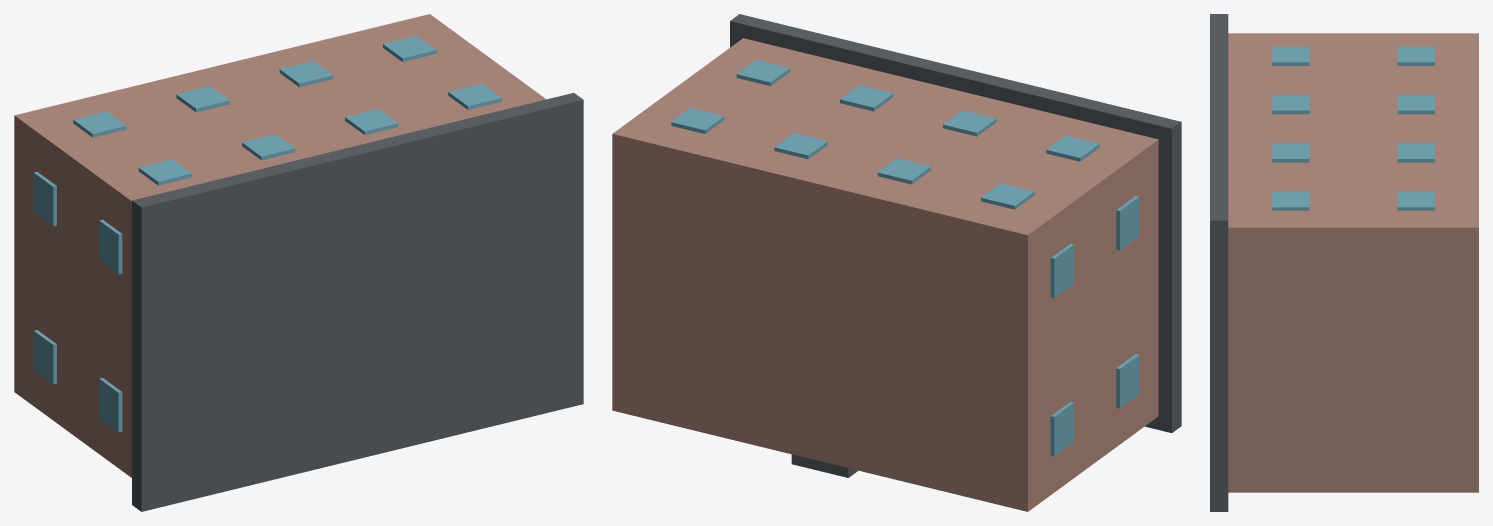
The model's file is bar.glb.
3 renders of one model, left to right at view 1: azimuth 30°, elevation 25°; view 2: azimuth 150°, elevation 25°; view 3: azimuth 270°, elevation 25°, orthographic. The views are drawn at different scales.
Parts seen in each view (by area): view 1: g1, g0, g20, g21, g10, g11, g7, g13, g3, g5, g15, g19 (+2 smaller); view 2: g0, g1, g11, g10, g20, g21, g5, g13, g19, g3, g7, g15 (+3 smaller); view 3: g0, g1, g7, g9, g13, g15, g17, g19, g3, g5.
Part boxes in pixels (box(x1,y1,x2,y2)): g1: box(132, 93, 583, 511); g0: box(14, 14, 546, 477); g20: box(99, 377, 122, 432); g21: box(99, 219, 122, 274); g10: box(33, 330, 56, 384); g11: box(33, 172, 56, 226); g7: box(279, 61, 333, 87); g13: box(138, 159, 192, 185); g3: box(73, 111, 126, 137); g5: box(176, 86, 229, 112); g15: box(242, 134, 295, 160); g19: box(448, 83, 501, 109); g0: box(612, 38, 1158, 511); g1: box(730, 14, 1181, 432); g11: box(1050, 243, 1073, 298); g10: box(1050, 402, 1073, 456); g20: box(1116, 354, 1139, 408); g21: box(1116, 196, 1139, 250); g5: box(877, 158, 931, 184); g13: box(1046, 135, 1099, 161); g19: box(736, 60, 790, 85); g3: box(981, 183, 1034, 209); g7: box(774, 133, 827, 159); g15: box(943, 110, 996, 136); g0: box(1228, 33, 1478, 492); g1: box(1210, 14, 1228, 511); g7: box(1397, 143, 1434, 162); g9: box(1397, 191, 1434, 210); g13: box(1272, 46, 1309, 65); g15: box(1272, 95, 1309, 114); g17: box(1272, 143, 1309, 162); g19: box(1272, 191, 1309, 210); g3: box(1397, 46, 1434, 65); g5: box(1397, 95, 1434, 114).
Size of the model in its own units: 11.7 by 7.7 by 6.44.
